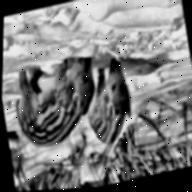boar: (0, 37, 105, 173), (79, 49, 156, 155)
